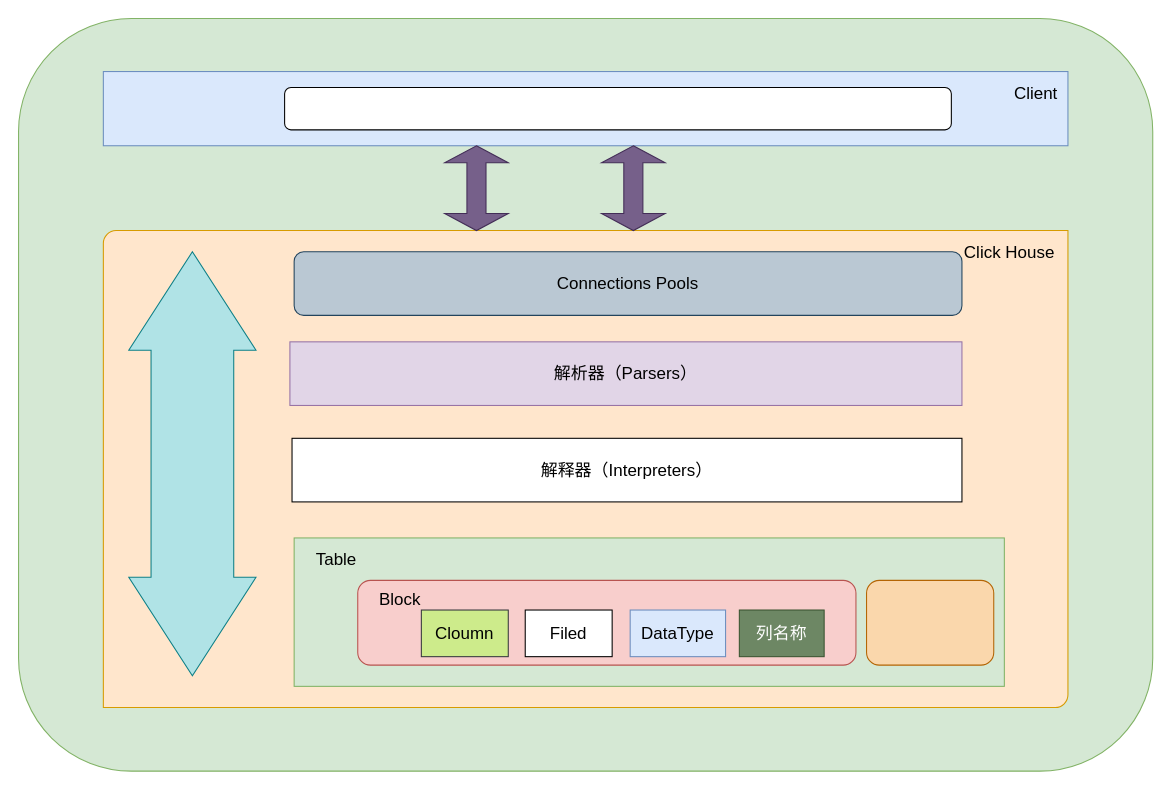
This 1171x790 diagram has some shape labels left out. The shapes that lost their labels are listed below. From the top down, each one's box as (x1, y1, x2, y2) in pixels, then its label:
(284, 86, 951, 130): 命令行客户端,JDBC驱动程序,ODBC驱动程序,C++客户端库,第三方库
(128, 251, 256, 676): Block Streams
(865, 579, 994, 665): Functions
